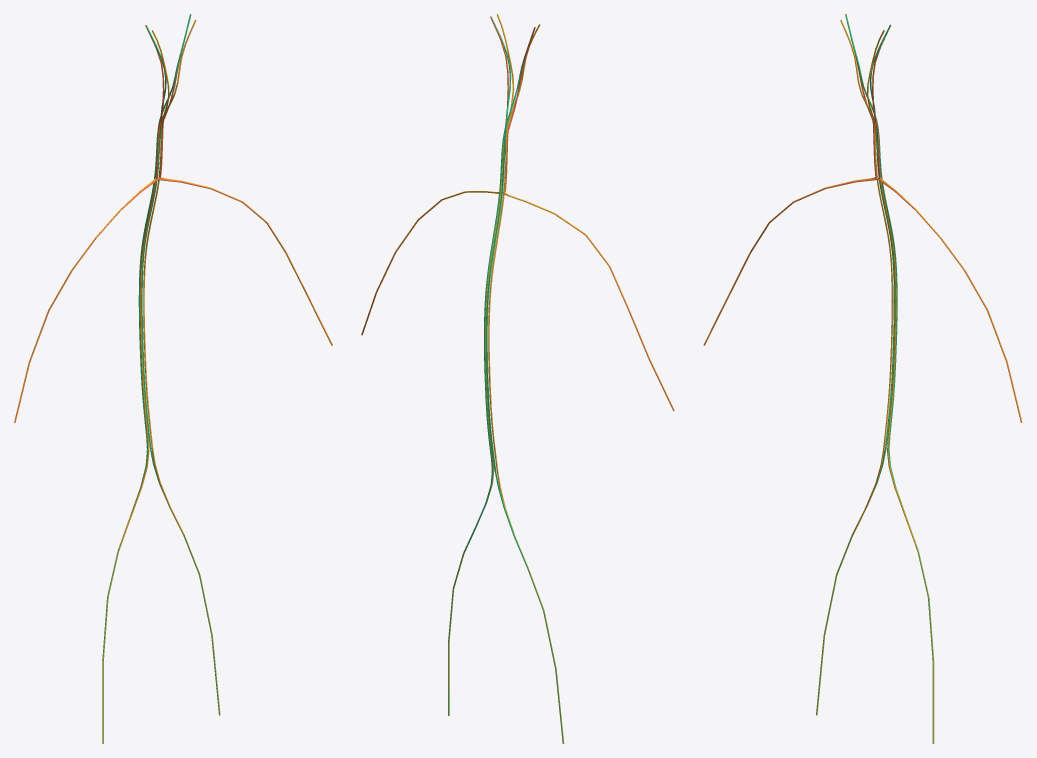
The model's file is bodyparts3d-brain-tracts.glb.
3 renders of one model, left to right at view 1: azimuth 30°, elevation 25°; view 2: azimuth 150°, elevation 25°; view 3: azimuth 330°, elevation 25°, orthographic.
Parts seen in each view (by area): view 1: cst, dcml, stt; view 2: cst, dcml, stt; view 3: cst, dcml, stt.
Part boxes in pixels (box(x1,y1,x2,y2)): cst: box(14, 20, 332, 743); dcml: box(102, 14, 220, 743); stt: box(14, 14, 332, 422); cst: box(361, 14, 674, 743); dcml: box(448, 16, 564, 743); stt: box(361, 16, 674, 410); cst: box(704, 19, 1021, 743); dcml: box(816, 14, 933, 743); stt: box(704, 14, 1022, 422).
Size of the model in its own units: 0.5462 by 1.17 by 0.1012.
